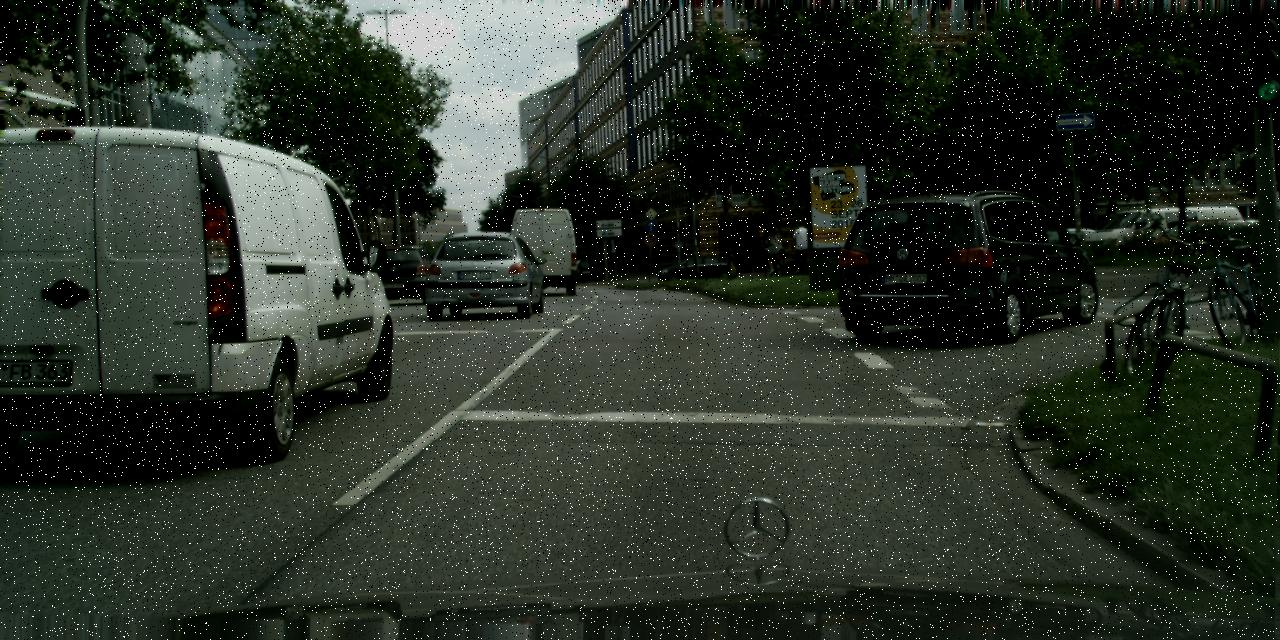ped: (791, 219, 810, 267), (766, 226, 783, 268)
